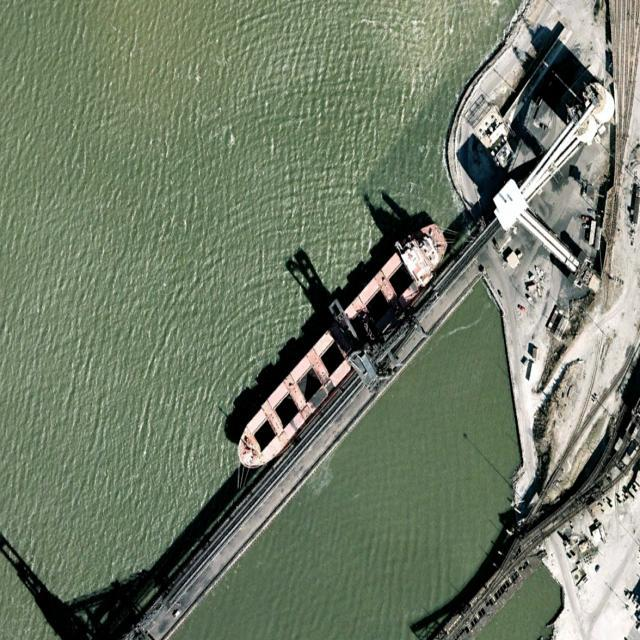Cargo: (229, 209, 455, 485)
